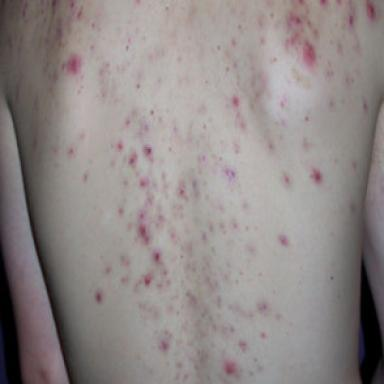acne: (303, 41, 316, 67), (66, 55, 82, 74), (138, 221, 150, 244), (287, 13, 302, 28), (366, 0, 376, 20), (224, 361, 237, 374), (286, 32, 299, 44), (143, 145, 153, 160), (257, 302, 269, 314), (312, 169, 322, 183), (278, 234, 289, 246), (279, 96, 289, 109), (129, 152, 137, 166), (178, 184, 186, 197), (225, 169, 235, 179), (160, 340, 169, 351), (144, 274, 152, 286), (232, 95, 240, 107), (239, 341, 247, 351), (77, 6, 83, 19), (117, 140, 124, 151), (140, 178, 148, 187), (348, 15, 354, 27), (169, 228, 175, 240), (95, 292, 102, 302), (154, 251, 161, 261), (200, 153, 206, 164), (313, 29, 319, 40), (319, 0, 327, 8), (142, 123, 149, 132), (284, 175, 290, 185), (268, 141, 274, 151), (362, 99, 367, 111), (121, 276, 128, 283), (232, 221, 238, 229), (70, 0, 75, 9), (83, 173, 88, 182), (240, 122, 245, 131), (231, 38, 236, 47), (173, 125, 178, 134), (329, 99, 334, 108), (139, 212, 145, 219), (125, 118, 131, 125), (106, 266, 111, 274), (119, 208, 124, 215), (68, 147, 73, 154), (335, 0, 342, 5), (260, 332, 265, 339), (260, 38, 265, 44), (157, 283, 163, 288), (163, 269, 167, 276), (167, 279, 171, 285), (298, 0, 303, 4)
